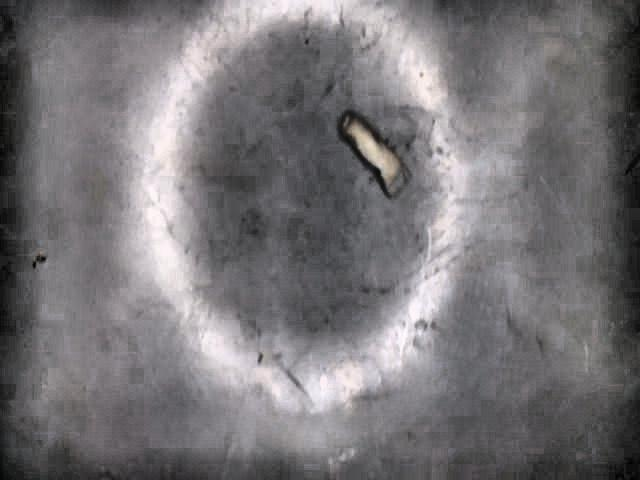Almennt: (339, 109, 413, 197)
